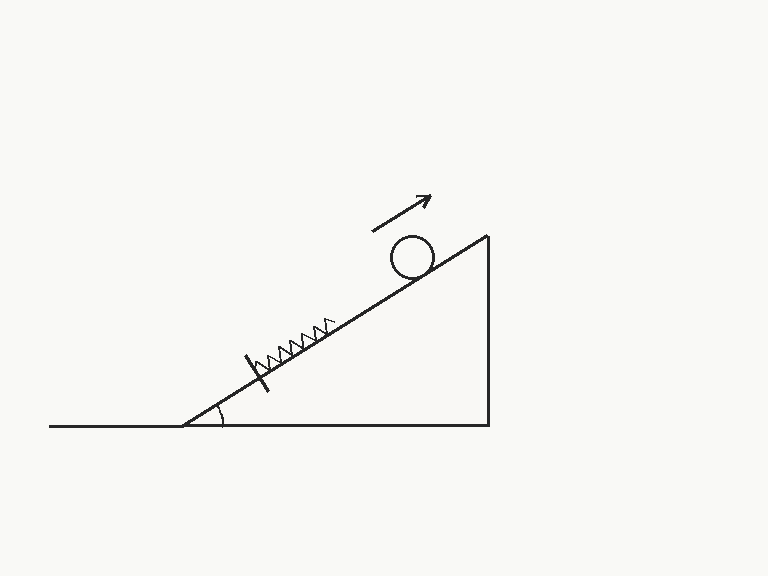ball: (388, 233, 436, 281)
ramp: (181, 233, 490, 428)
spring: (253, 317, 336, 373)
